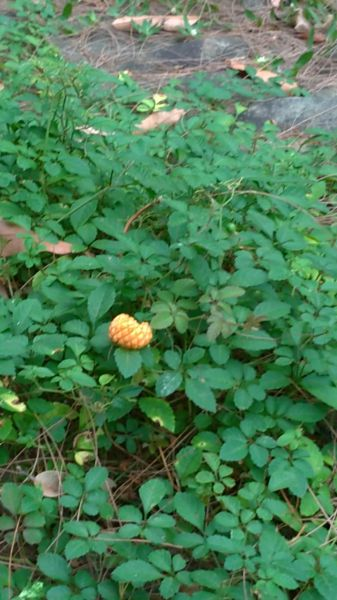eggs: (106, 308, 158, 354)
